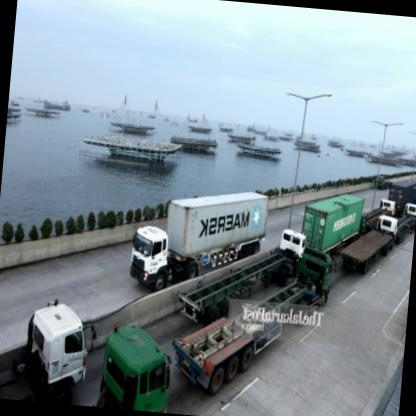truck: (22, 302, 93, 403), (128, 224, 173, 293)
